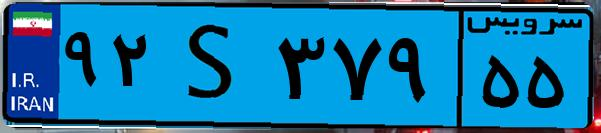2: (110, 28, 158, 98)
3: (270, 28, 330, 110)
5: (475, 38, 525, 113), (525, 38, 570, 115)
7: (330, 28, 385, 110)
9: (385, 28, 445, 110), (57, 26, 110, 100)
S: (158, 12, 270, 120)
